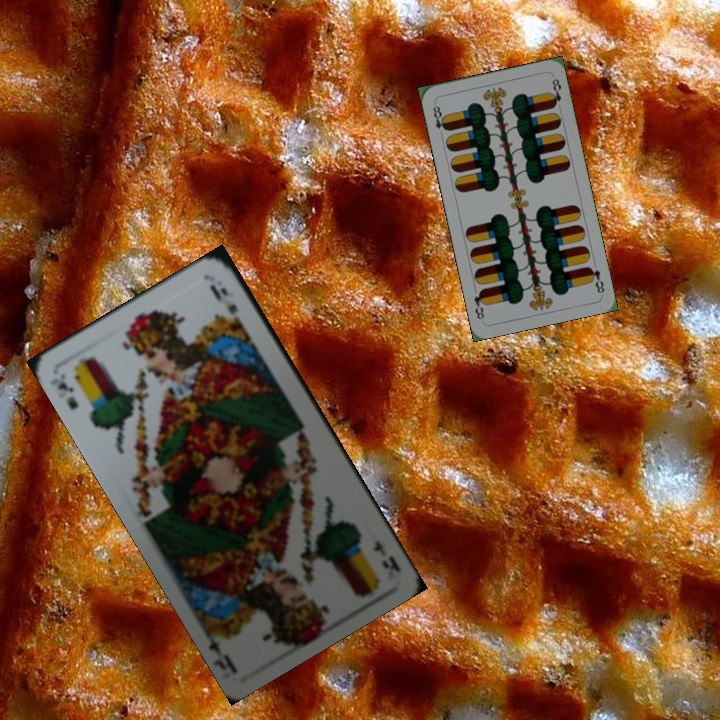E8: (429, 99, 450, 139), (584, 263, 607, 296)
EK: (46, 369, 81, 412), (369, 535, 403, 575)
